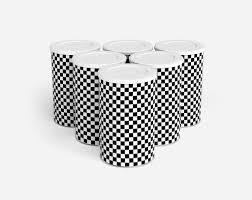Tin: (38, 29, 241, 186)
